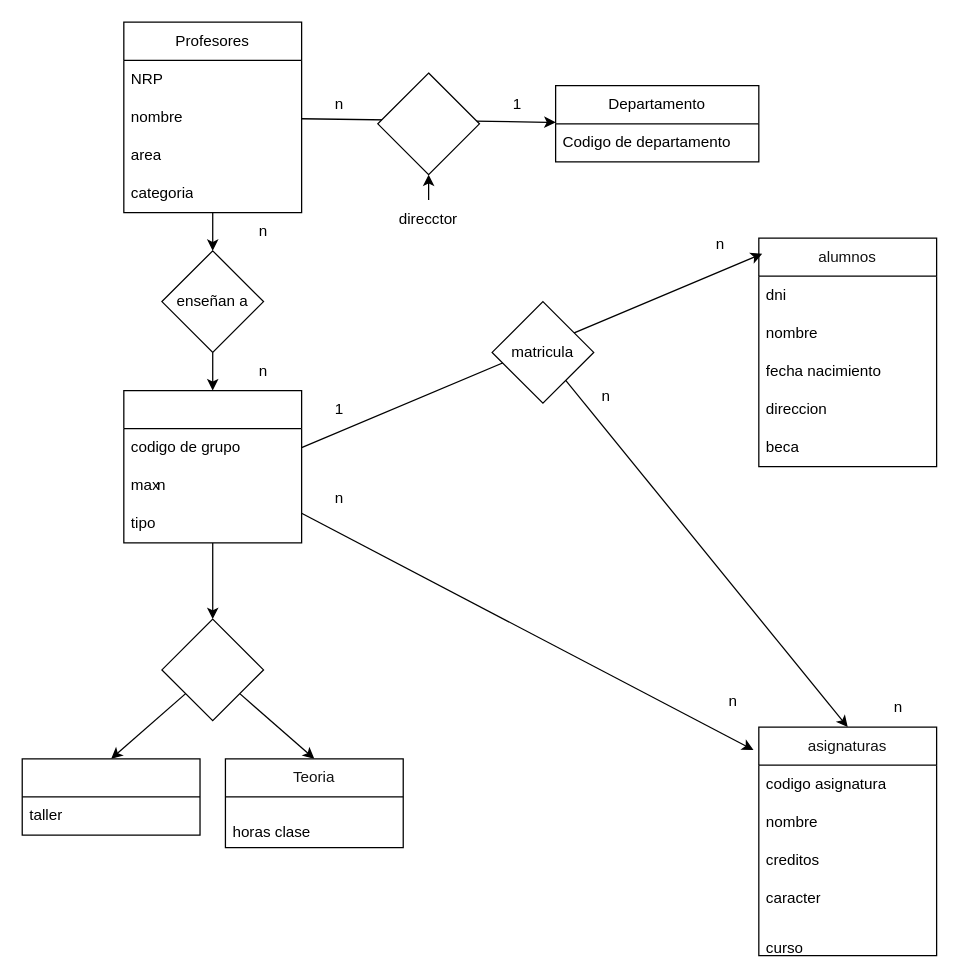
Some shapes in this 959 by 978 pixel diagram are drawn without their labels. Here are the shapes that lost their labels. From the top down, the box of each, then its label:
(377, 72, 479, 175): Pertenece
(123, 389, 302, 543): Grupos
(161, 618, 264, 721): existen
(21, 758, 200, 835): Practica
